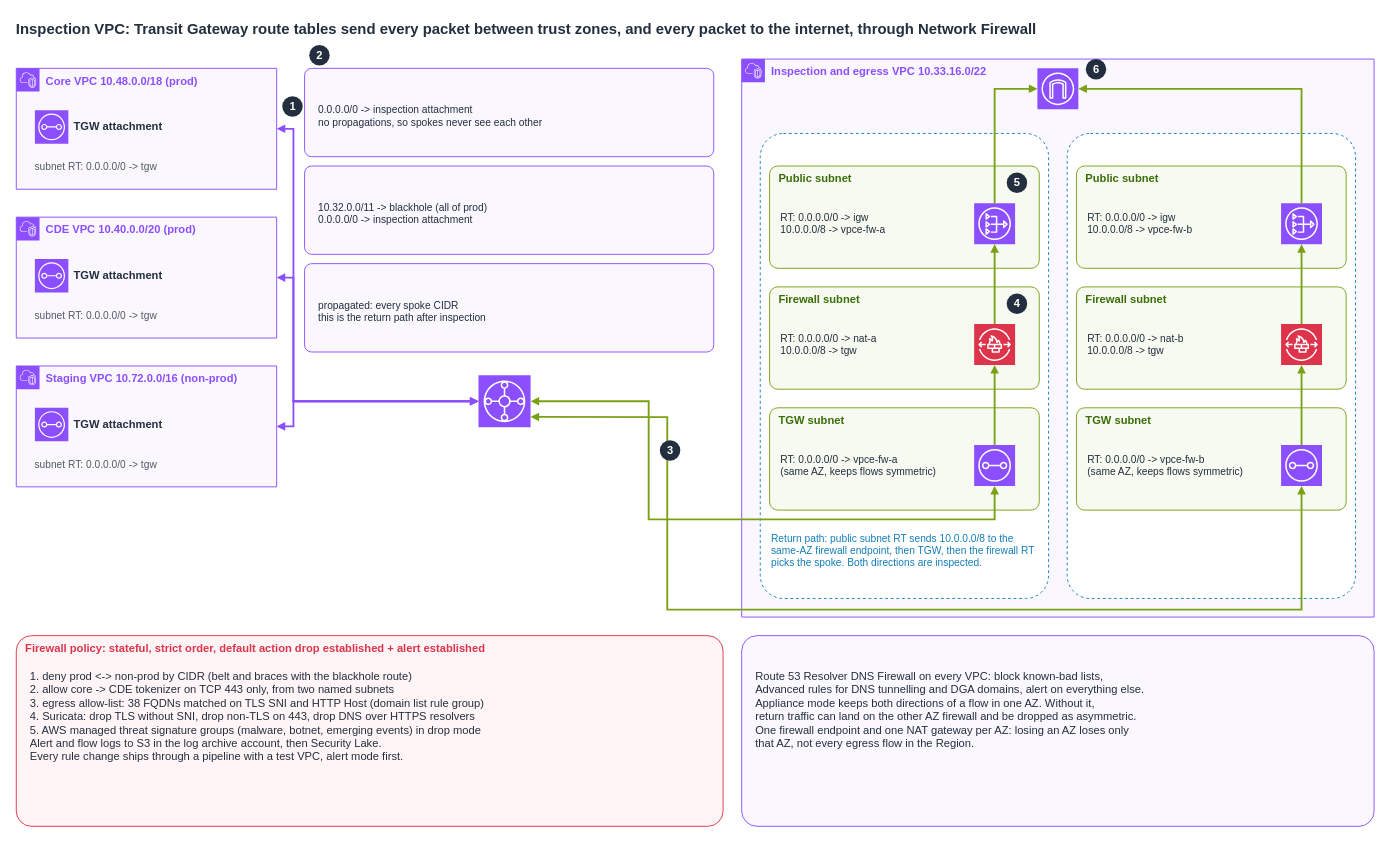
This 1390x843 diagram has some shape labels left out. The shapes that lost their labels are listed below. From the top down, each one's box as (x1, y1, x2, y2) in pixels, then its label:
(1036, 67, 1078, 109): Internet gateway
(304, 67, 714, 157): prod-spokes RT (assoc: core, CDE, shared)
(304, 165, 714, 254): non-prod RT (assoc: staging, dev)
(304, 263, 714, 352): firewall RT (assoc: inspection attachment)
(759, 133, 1049, 598): Availability Zone a
(1066, 133, 1355, 598): Availability Zone b
(478, 374, 531, 427): Transit Gateway appliance mode on the inspection attachment
(741, 635, 1374, 826): DNS and the things people forget
